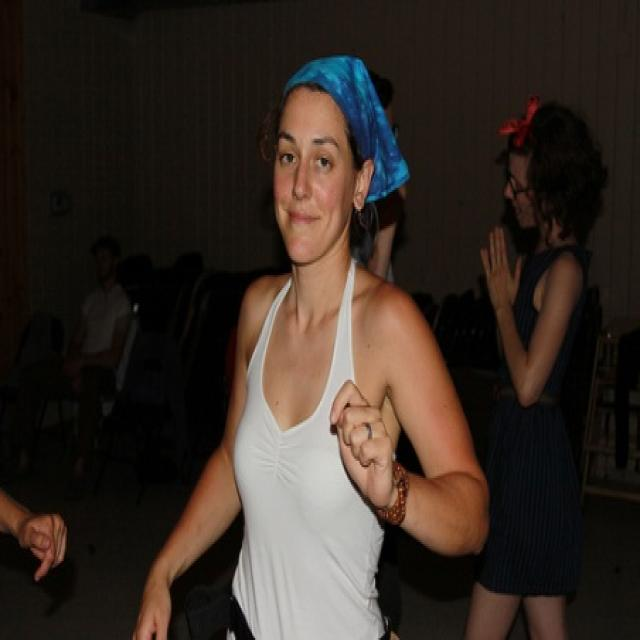People: (135, 47, 460, 640), (483, 105, 614, 640)
